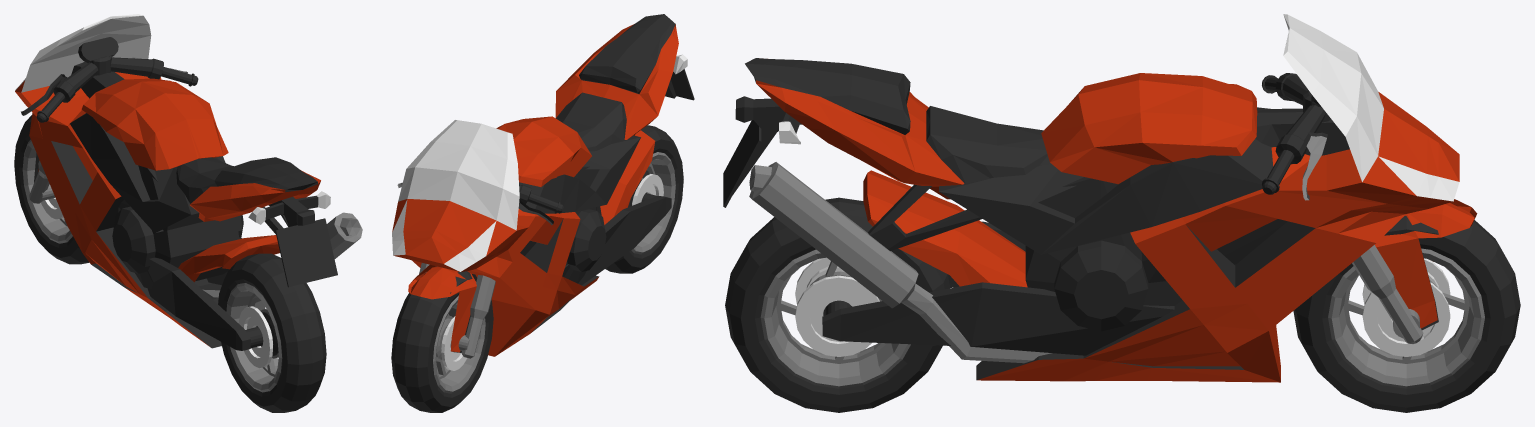
File: moto_sport.glb
3 views of the same model, side by side, from view 1: azimuth 30°, elevation 25°; view 2: azimuth 150°, elevation 25°; view 3: azimuth 270°, elevation 25° (orthographic). The views are drawn at different scales.
Parts seen in each view (by area): view 1: Motorcycle; view 2: Motorcycle; view 3: Motorcycle.
Boxes of the visible parts, bbox=[...] form: Motorcycle: bbox=[14, 14, 362, 412]; Motorcycle: bbox=[391, 14, 694, 412]; Motorcycle: bbox=[723, 14, 1520, 412].
Bounding box in the file's own units: 42.86 × 67.18 × 127.
1 material, 1 textured.
